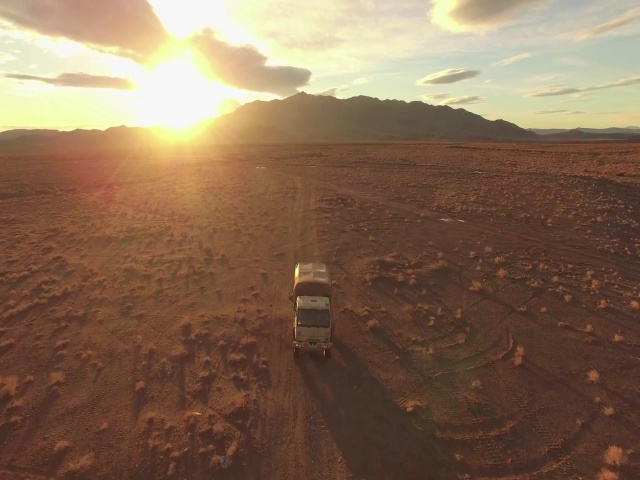vehicle: (288, 260, 335, 358)
